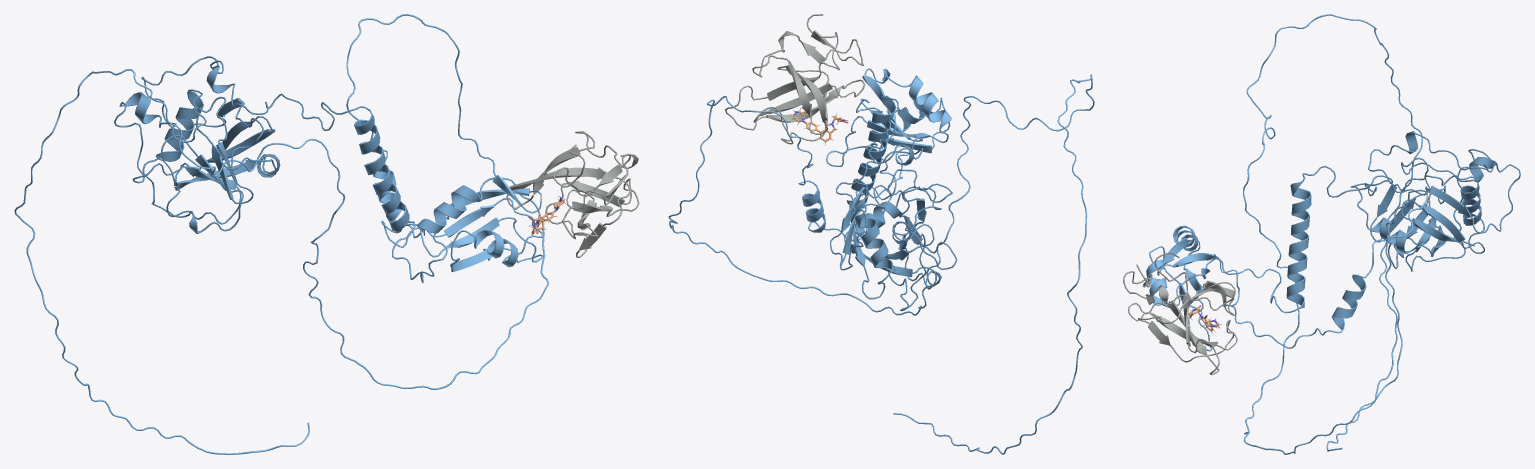
3 views of the same model, side by side, from view 1: azimuth 30°, elevation 25°; view 2: azimuth 150°, elevation 25°; view 3: azimuth 270°, elevation 25° (orthographic). The views are drawn at different scales.
Visible parts, largest first — view 1: node-geom97, node-geom98; view 2: node-geom97, node-geom98; view 3: node-geom97, node-geom98.
Boxes of the visible parts, x1,y1,x2,y2 form: node-geom97: (114, 56, 639, 257); node-geom98: (14, 14, 548, 454); node-geom97: (725, 14, 957, 311); node-geom98: (668, 68, 1094, 454); node-geom97: (1123, 131, 1520, 374); node-geom98: (1146, 14, 1427, 454).
Size of the model in its own units: 134 by 106 by 104.
